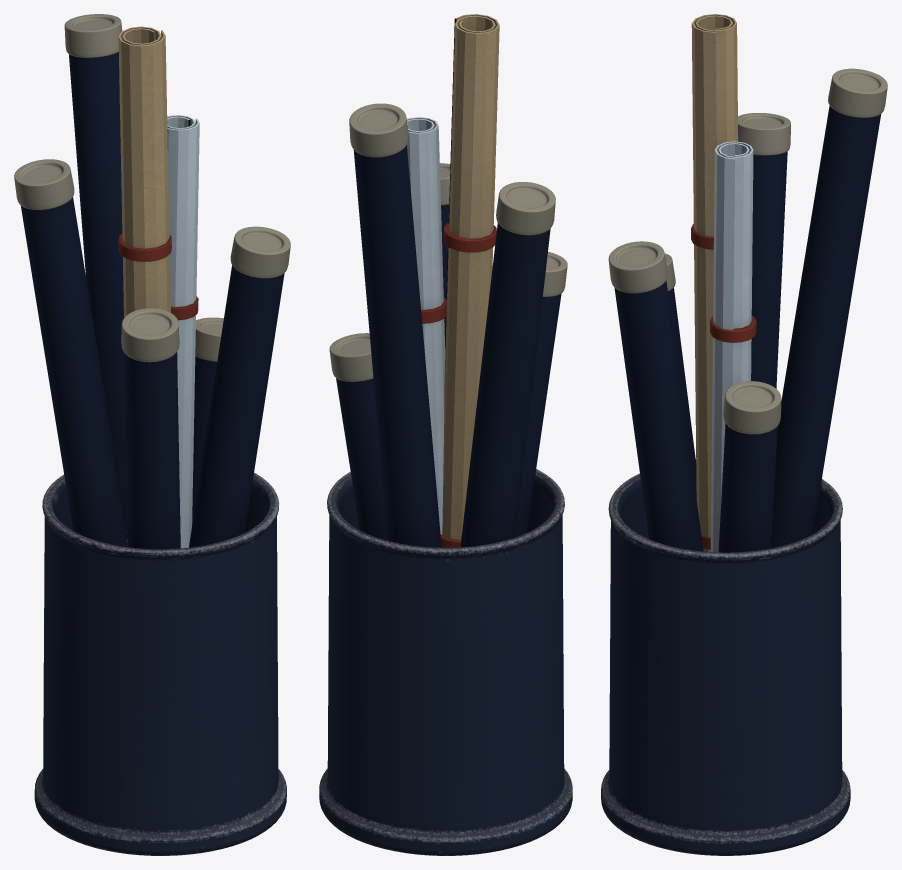
3 views of the same model, side by side, from view 1: azimuth 30°, elevation 25°; view 2: azimuth 150°, elevation 25°; view 3: azimuth 270°, elevation 25° (orthographic).
Parts seen in each view (by area): view 1: studio-drawing-tubes; view 2: studio-drawing-tubes; view 3: studio-drawing-tubes.
Part boxes in pixels (x1,y1,x2,y2): studio-drawing-tubes: [14, 14, 290, 855]; studio-drawing-tubes: [319, 14, 572, 855]; studio-drawing-tubes: [601, 14, 887, 855].
Size of the model in its own units: 0.1625 by 0.5182 by 0.1748.
Materials: 1 (1 with a texture image).
